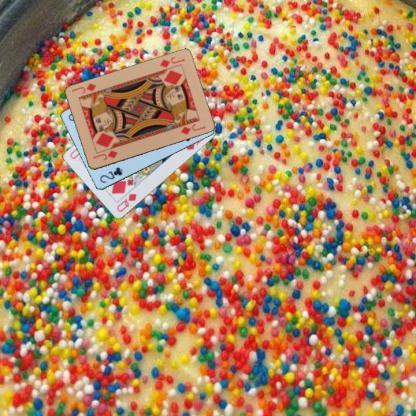2c: (97, 164, 124, 184)
Jd: (157, 54, 186, 70), (90, 148, 119, 162)
Qd: (113, 191, 138, 213)
